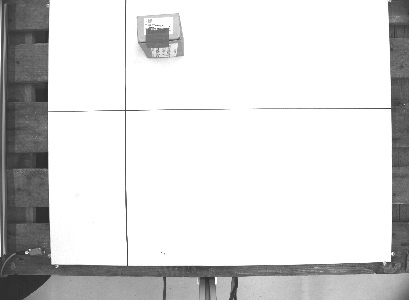b6: (133, 10, 186, 59)
